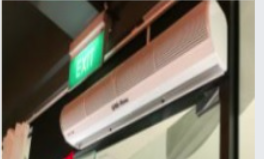Air Curtain: (56, 1, 231, 150)
